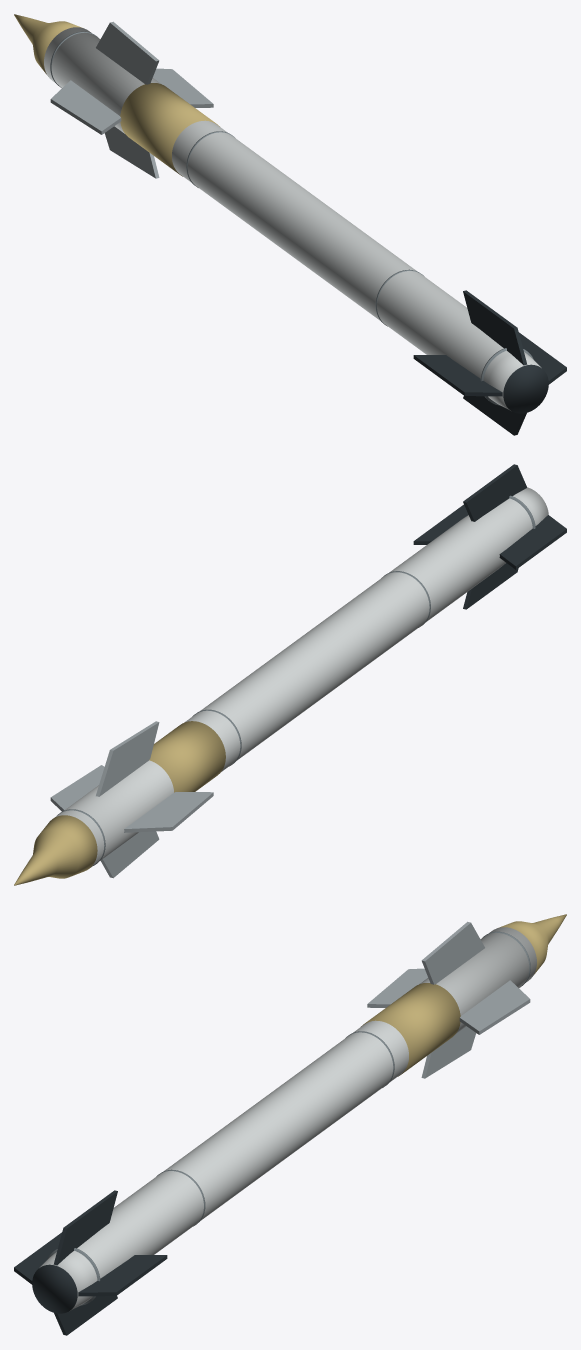
Rendered from vikhr.glb.
The picture shows the model from 3 angles, top to bottom: view 1: azimuth 30°, elevation 25°; view 2: azimuth 150°, elevation 25°; view 3: azimuth 330°, elevation 25°; orthographic projection.
Parts seen in each view (by area): view 1: static.Exterior light grey, static.Exterior dark cap, static.Exterior dull metal, static.Vikhr exterior ochre, static.Restrained joints; view 2: static.Exterior light grey, static.Vikhr exterior ochre, static.Exterior dull metal, static.Exterior dark cap, static.Restrained joints; view 3: static.Exterior light grey, static.Exterior dark cap, static.Exterior dull metal, static.Vikhr exterior ochre, static.Restrained joints.
Part boxes in pixels (x1,y1,x2,y2): static.Exterior light grey: (44,27,541,410); static.Exterior dark cap: (413,290,566,435); static.Exterior dull metal: (50,21,213,178); static.Vikhr exterior ochre: (14,14,219,176); static.Restrained joints: (50,31,533,405); static.Exterior light grey: (55,487,548,867); static.Vikhr exterior ochre: (14,721,225,885); static.Exterior dull metal: (50,721,213,878); static.Exterior dark cap: (413,464,566,609); static.Restrained joints: (57,495,535,865); static.Exterior light grey: (39,927,536,1310); static.Exterior dark cap: (14,1190,167,1335); static.Exterior dull metal: (367,921,530,1078); static.Vikhr exterior ochre: (361,914,566,1076); static.Restrained joints: (47,931,530,1305).
Size of the model in its own units: 0.385 by 0.385 by 2.8.
